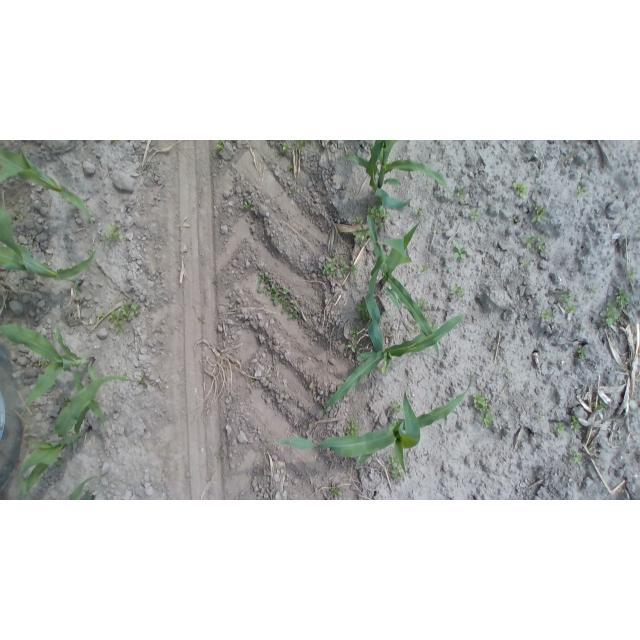Maize: (321, 286, 466, 421), (274, 385, 468, 476), (15, 370, 130, 500), (1, 317, 118, 424), (364, 210, 436, 360), (0, 189, 98, 283), (1, 144, 98, 228), (342, 141, 453, 208), (64, 471, 108, 500)
Weeds: (259, 274, 294, 309), (599, 290, 629, 327), (108, 300, 140, 333), (472, 392, 496, 429), (611, 287, 631, 318), (522, 234, 547, 255), (558, 289, 579, 313), (322, 258, 347, 278), (102, 223, 122, 245), (368, 204, 389, 223), (389, 454, 402, 479), (530, 204, 546, 224), (283, 301, 299, 320), (357, 299, 369, 321), (345, 420, 360, 437), (513, 182, 528, 199), (451, 283, 466, 299), (453, 244, 467, 261), (351, 230, 370, 242), (345, 261, 360, 276), (553, 422, 566, 439), (569, 415, 581, 432), (389, 401, 403, 414), (540, 308, 554, 321), (571, 452, 585, 465), (330, 486, 345, 498), (456, 187, 467, 203), (624, 268, 637, 281), (594, 399, 606, 413), (277, 141, 289, 155), (469, 208, 482, 220), (139, 375, 149, 390), (419, 263, 430, 276), (295, 141, 308, 152), (577, 346, 587, 360), (418, 297, 428, 311), (35, 358, 50, 367), (414, 206, 424, 219), (520, 259, 530, 272), (350, 326, 360, 339), (216, 141, 227, 152), (577, 185, 587, 197), (587, 284, 597, 296), (243, 200, 254, 210), (287, 186, 297, 197), (216, 450, 226, 461), (501, 368, 513, 377), (12, 209, 22, 219), (96, 311, 106, 320), (348, 343, 357, 353), (535, 412, 545, 420), (491, 198, 499, 208), (56, 459, 64, 468), (354, 217, 364, 224), (288, 161, 295, 171), (75, 282, 82, 292), (121, 373, 129, 381), (86, 248, 94, 256), (513, 216, 520, 225), (431, 226, 438, 234), (110, 140, 119, 144)
